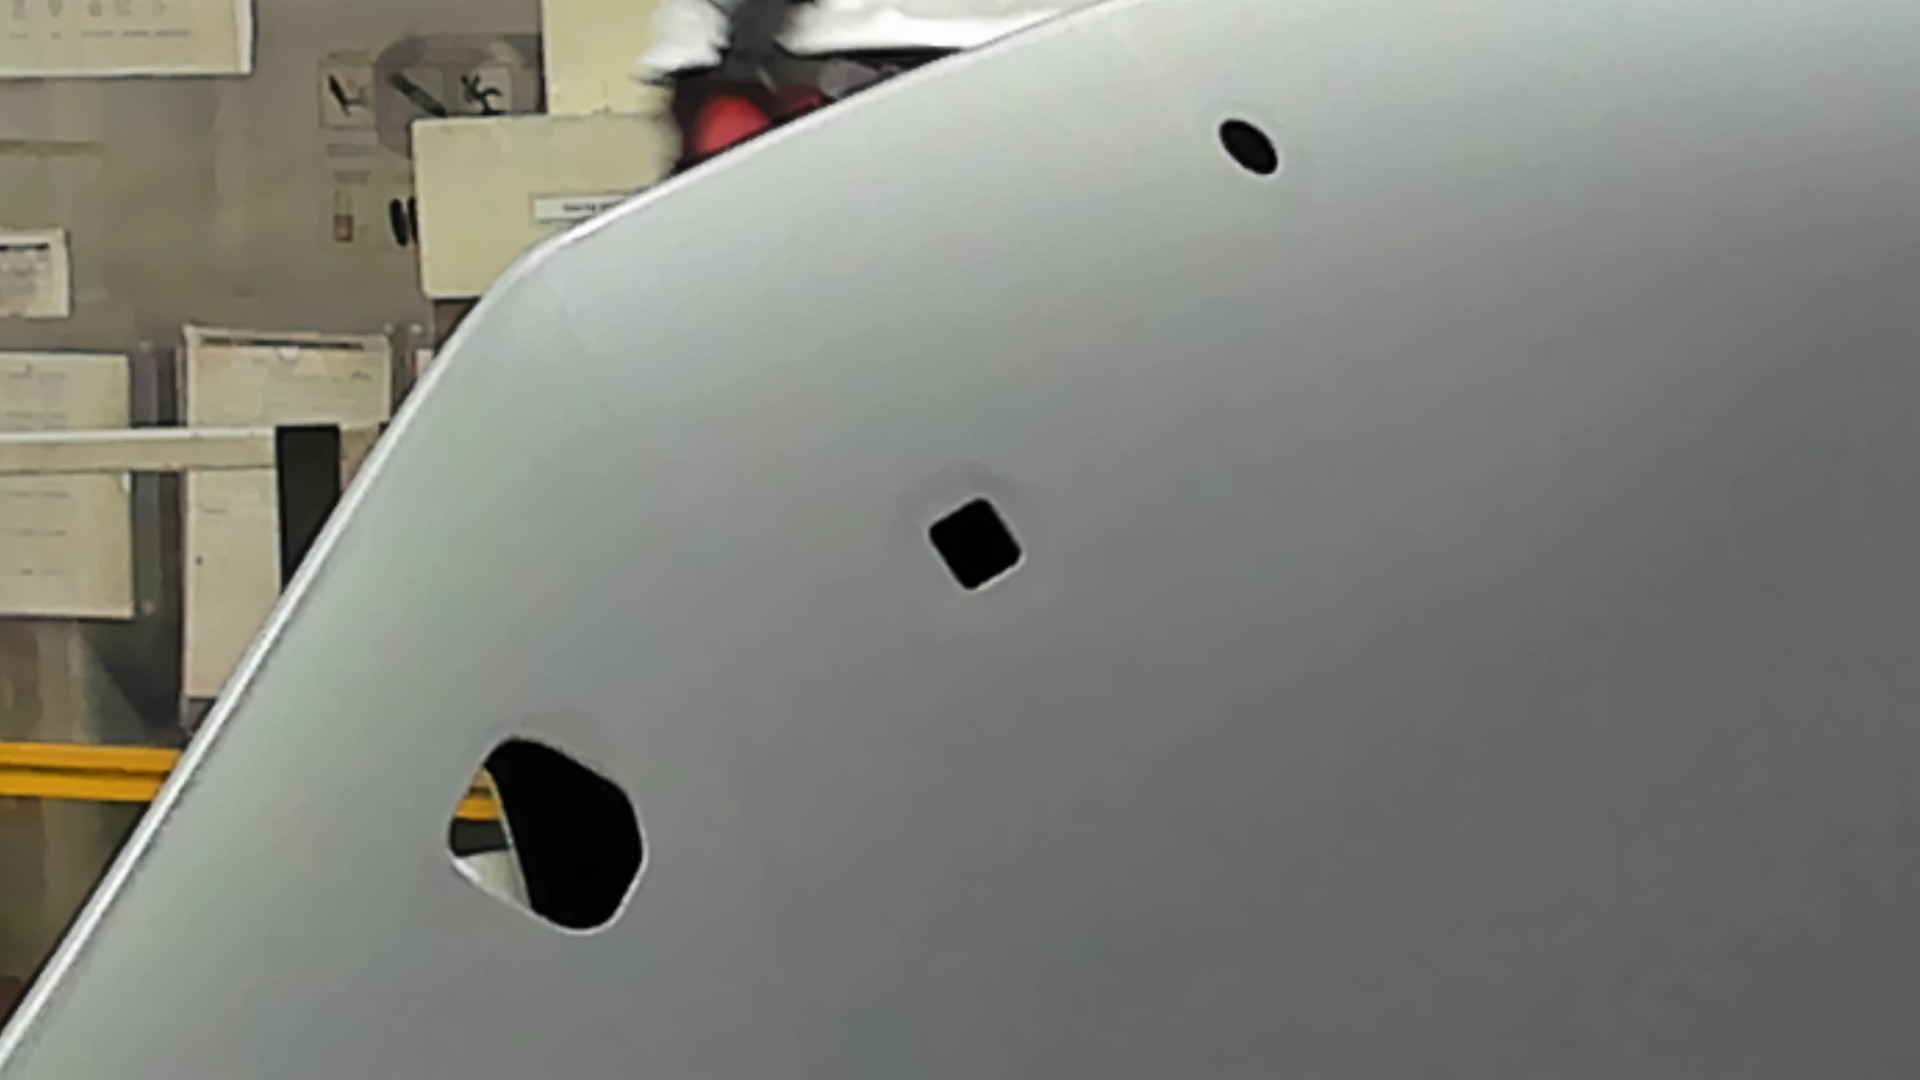chico: (1213, 113, 1284, 179)
grande: (434, 728, 654, 942)
mediano: (916, 487, 1035, 603)
